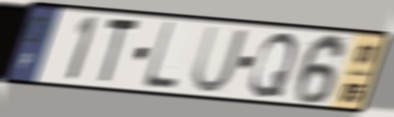1: (66, 15, 100, 84)
6: (291, 31, 350, 107)
L: (140, 20, 179, 92)
Q: (247, 30, 300, 99)
T: (96, 15, 143, 87)
U: (188, 24, 250, 95)
